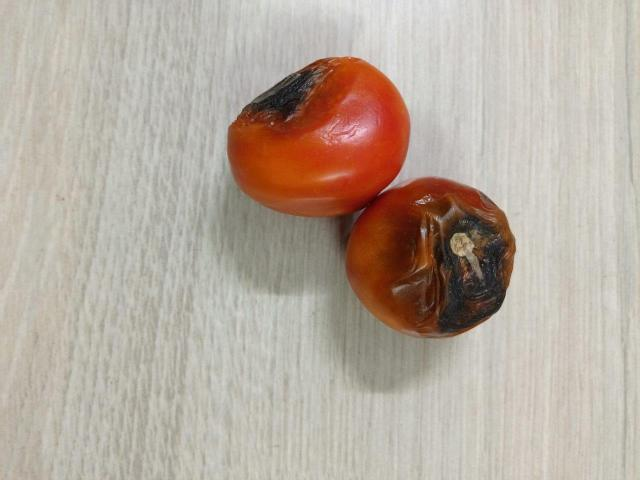defect: (223, 51, 415, 219), (343, 175, 519, 340)
